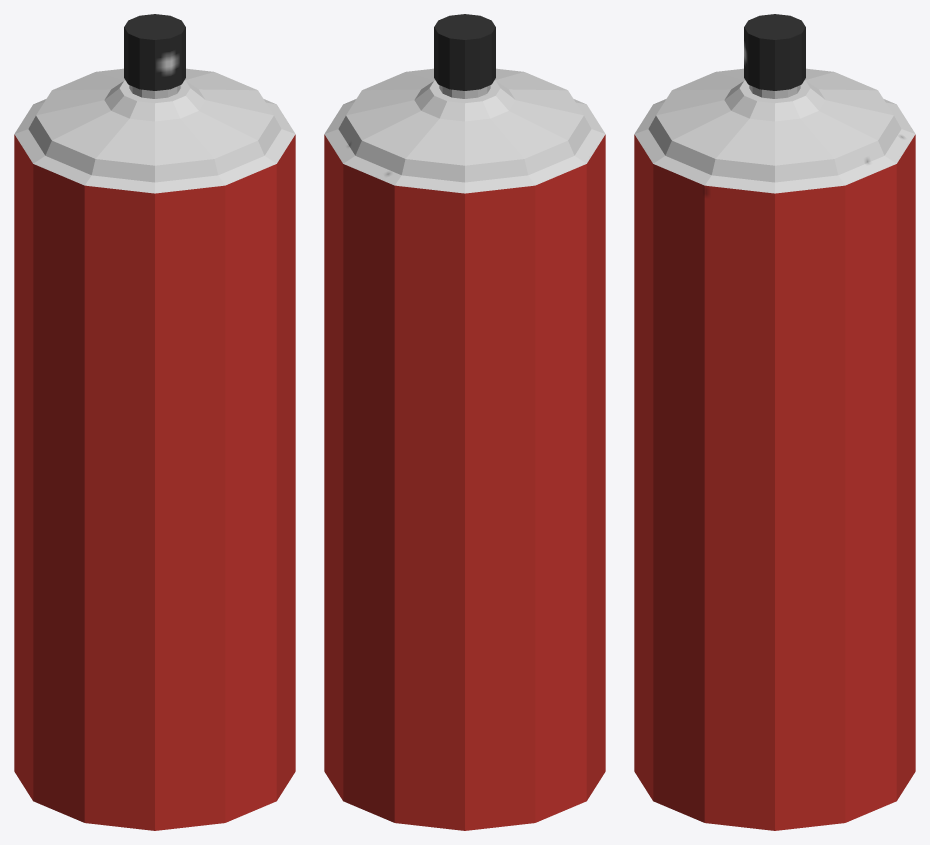
Rendered from Quest4FoamCan.fbx.
3 renders of one model, left to right at view 1: azimuth 30°, elevation 25°; view 2: azimuth 150°, elevation 25°; view 3: azimuth 270°, elevation 25°, orthographic.
Visible parts, largest first — view 1: FoamCan; view 2: FoamCan; view 3: FoamCan.
Part boxes in pixels (bbox=[...]): FoamCan: bbox=[14, 14, 295, 830]; FoamCan: bbox=[324, 14, 605, 830]; FoamCan: bbox=[634, 14, 915, 830].
Size of the model in its own units: 15 by 43.8 by 15.
